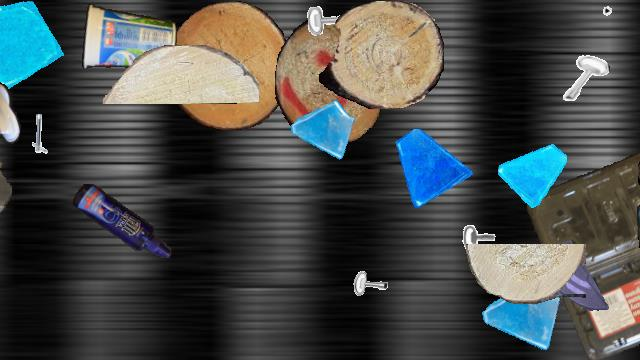glass: (480, 275, 564, 359), (393, 129, 473, 209), (534, 234, 614, 314), (0, 1, 69, 93), (289, 97, 357, 165), (498, 139, 566, 207)
metal: (301, 1, 361, 61), (347, 247, 399, 299), (559, 52, 609, 102), (9, 106, 59, 156), (460, 206, 506, 252), (602, 1, 640, 41)
plastic: (527, 149, 640, 359), (73, 184, 171, 258), (80, 1, 176, 71), (0, 81, 21, 167), (0, 135, 12, 223), (637, 178, 640, 260)
wood: (167, 1, 291, 129), (319, 1, 443, 109), (275, 20, 383, 142), (102, 45, 258, 103), (466, 244, 586, 304), (638, 138, 640, 210)
